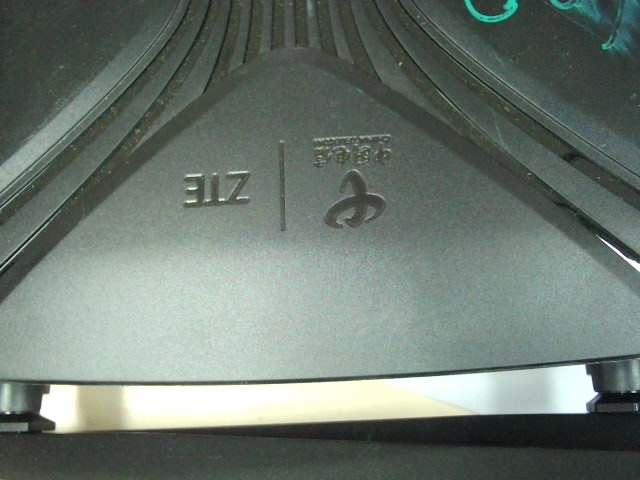AX_ZTEChinaTelecom: (173, 131, 397, 231)
